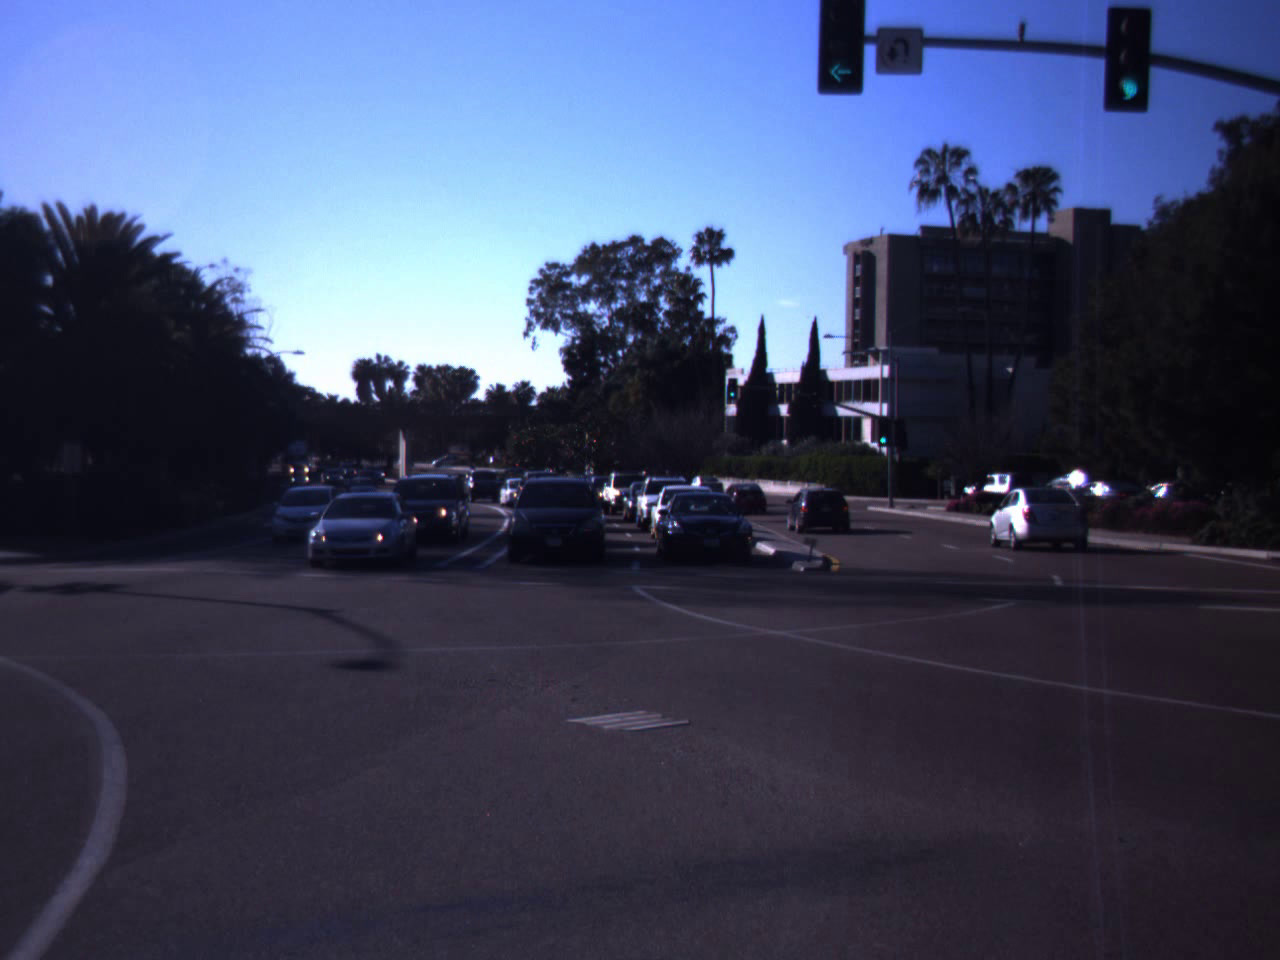go: (811, 0, 871, 93), (1112, 29, 1148, 104)
